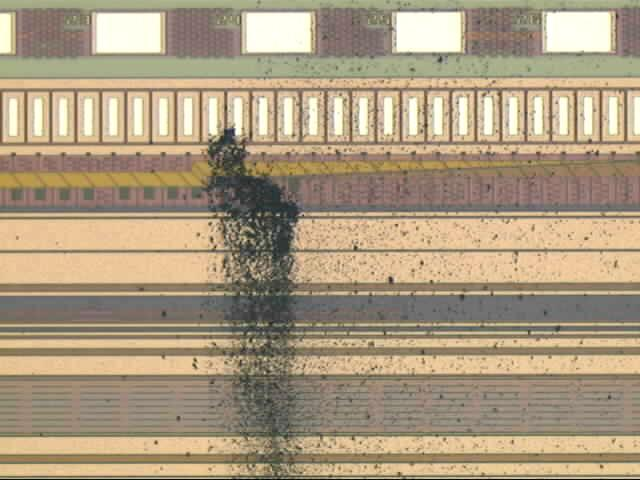PO CONTAMINATION: (13, 1, 640, 480)
